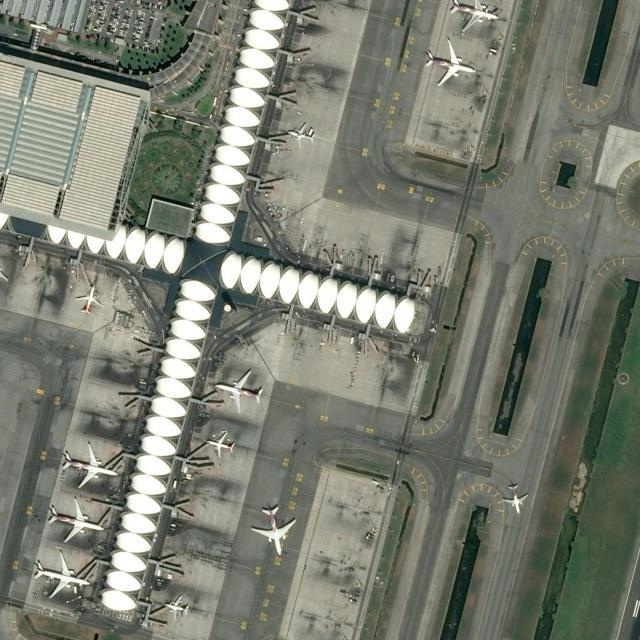Aircraft: (27, 549, 89, 602), (55, 439, 117, 489), (43, 493, 103, 542), (422, 37, 478, 87), (247, 501, 297, 555), (210, 368, 265, 414), (445, 0, 501, 33), (497, 481, 531, 515), (73, 282, 104, 314), (285, 120, 315, 148), (157, 592, 189, 618), (206, 433, 236, 459)
